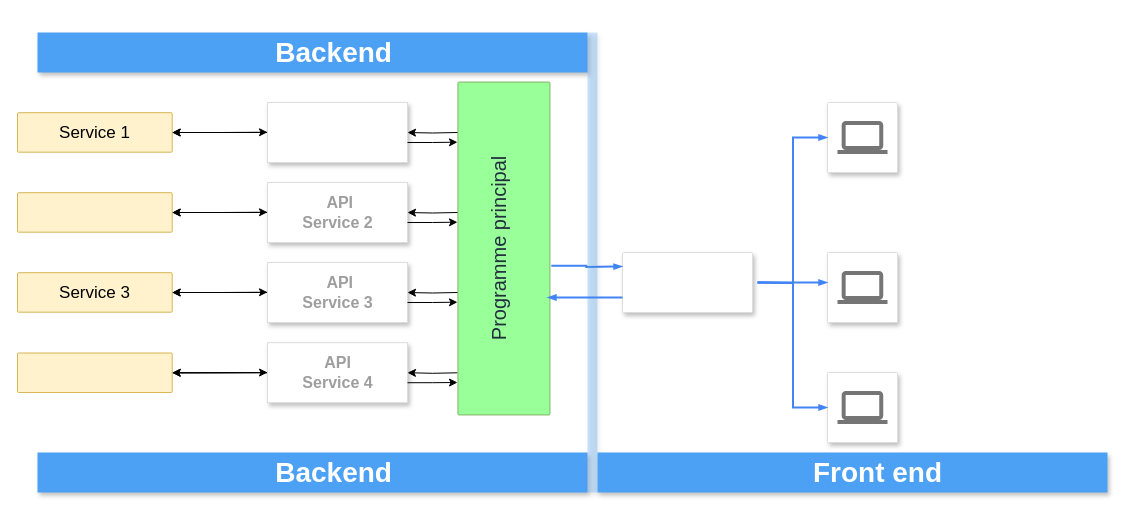
Some shapes in this 1131 by 525 pixel diagram are drawn without their labels. The centre of each missing label's shape, as x and y in pixels:
API Service 1: point (338, 134)
Interface graphique: point (688, 284)
Service 2: point (94, 212)
Service 4: point (94, 372)
